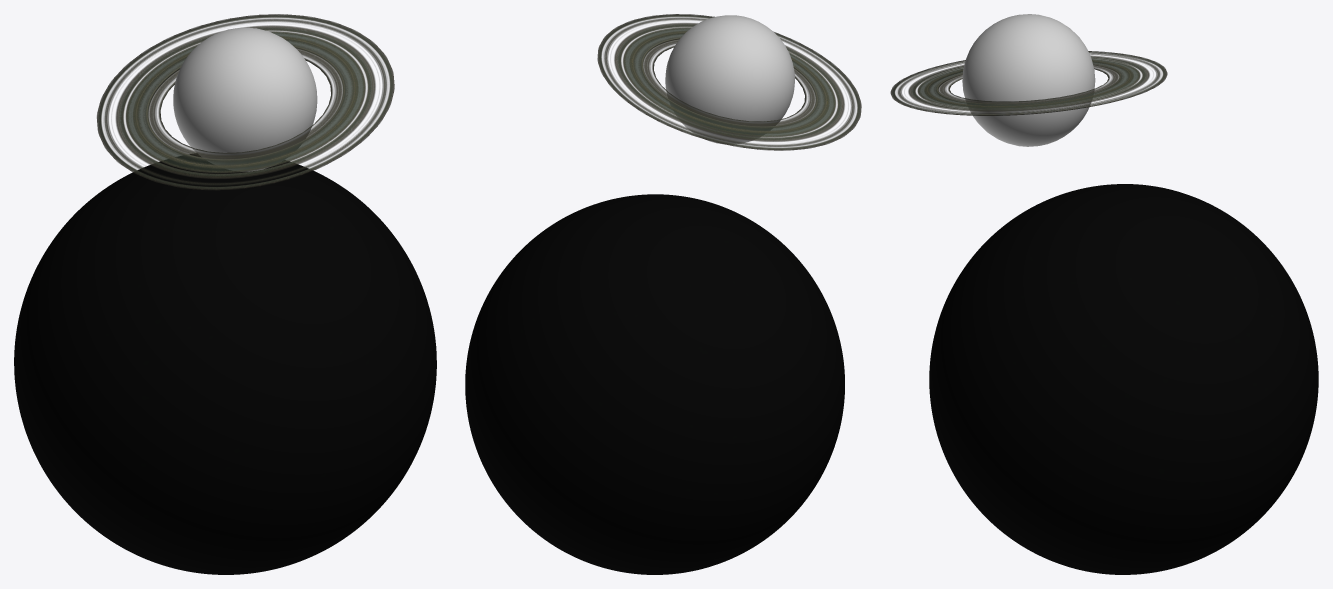
The picture shows the model from 3 angles, left to right: view 1: azimuth 30°, elevation 25°; view 2: azimuth 150°, elevation 25°; view 3: azimuth 270°, elevation 25°; orthographic projection. The views are drawn at different scales.
Visible parts, largest first — view 1: Nubes.010, Anillas, Planeta.011; view 2: Nubes.010, Anillas, Planeta.011; view 3: Nubes.010, Planeta.011, Anillas.
Part boxes in pixels (left/top/right/bottom): Nubes.010: left=14, top=153, right=436, bottom=574; Anillas: left=97, top=14, right=394, bottom=190; Planeta.011: left=173, top=27, right=317, bottom=171; Nubes.010: left=465, top=194, right=844, bottom=574; Anillas: left=597, top=14, right=861, bottom=150; Planeta.011: left=665, top=15, right=794, bottom=144; Nubes.010: left=929, top=184, right=1318, bottom=574; Planeta.011: left=962, top=14, right=1095, bottom=146; Anillas: left=890, top=51, right=1167, bottom=115.
Size of the model in its own units: 56.02 by 82.85 by 61.61.
